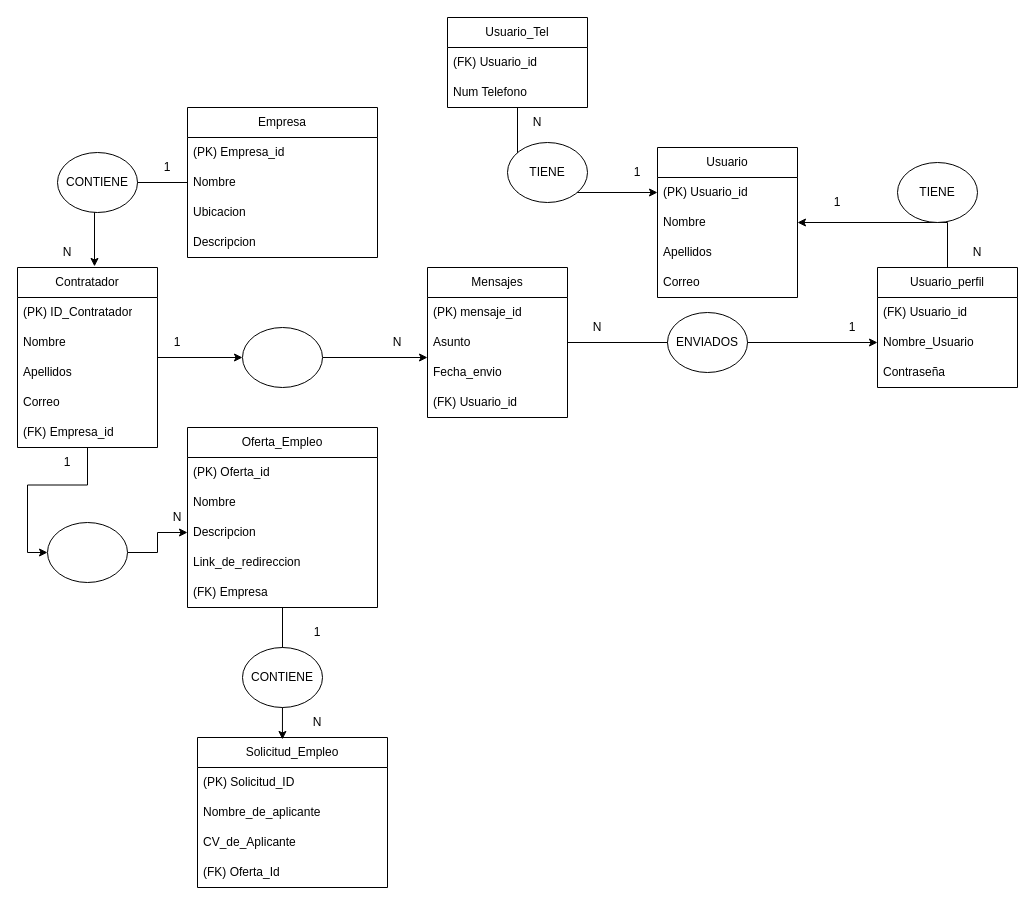
This 1035x905 diagram has some shape labels left out. Here are the shapes that lost their labels. From the top down, the centre of each, then its label:
(282,357): ENVIAN
(87,552): OFRECE
